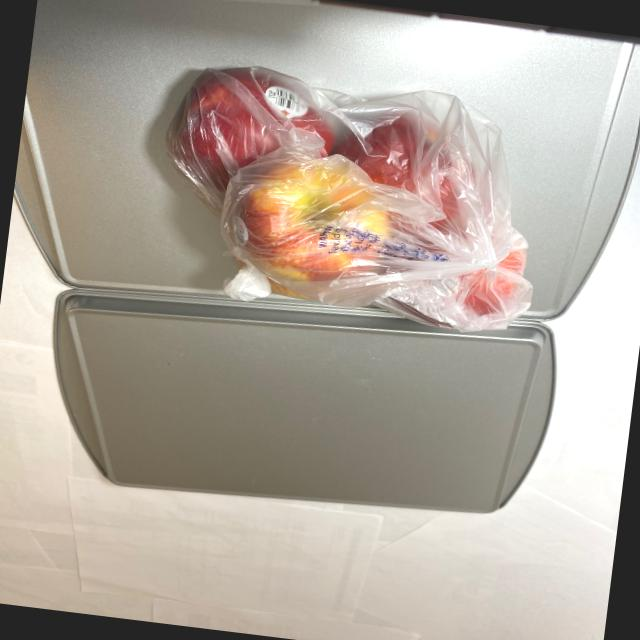apple: (143, 56, 557, 342)
